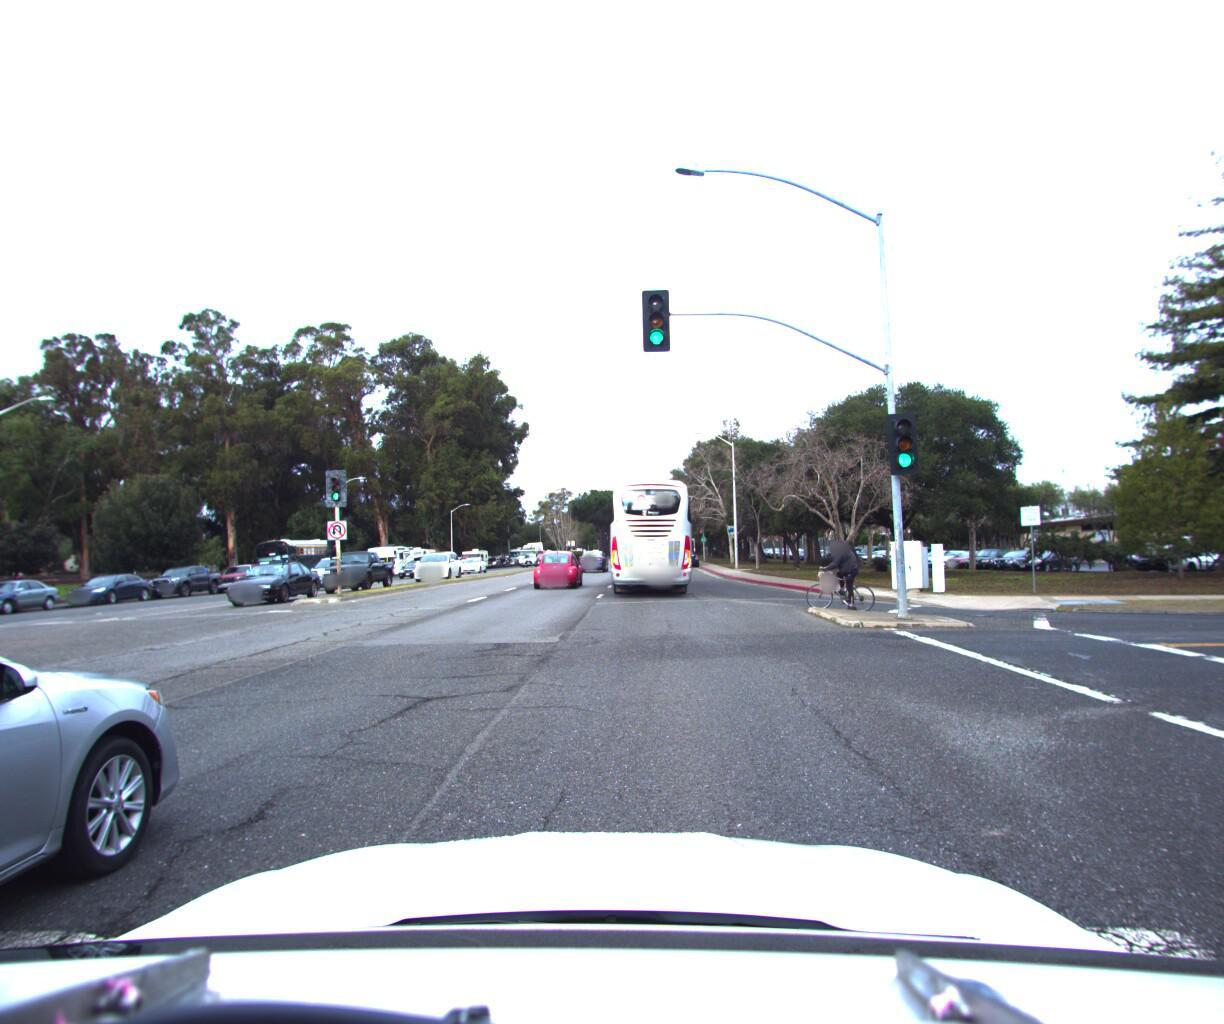bicycle: (798, 530, 871, 610)
bus: (602, 472, 705, 601), (254, 530, 344, 588)
car: (0, 562, 245, 1024), (213, 549, 330, 606), (314, 544, 401, 590), (59, 568, 160, 605), (0, 574, 73, 619), (138, 560, 227, 597), (297, 549, 370, 588), (530, 545, 586, 588), (209, 558, 277, 592), (410, 544, 466, 576), (457, 550, 487, 569)
other_vehicle: (361, 536, 417, 577)
